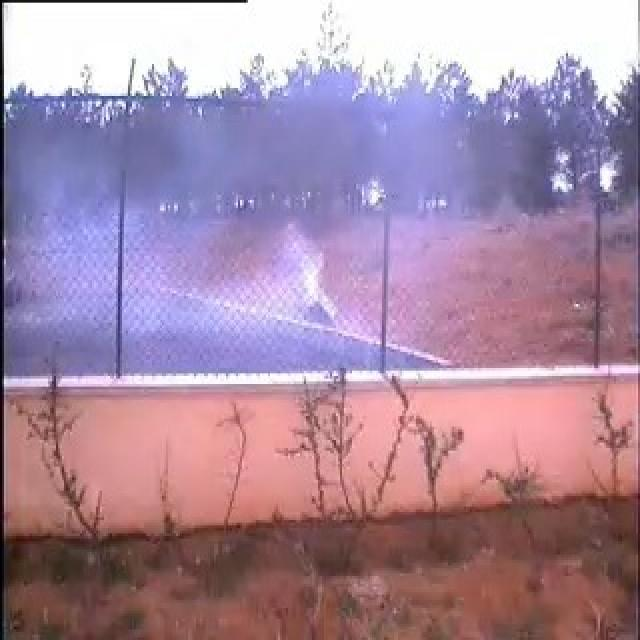smoke: (26, 161, 338, 369)
